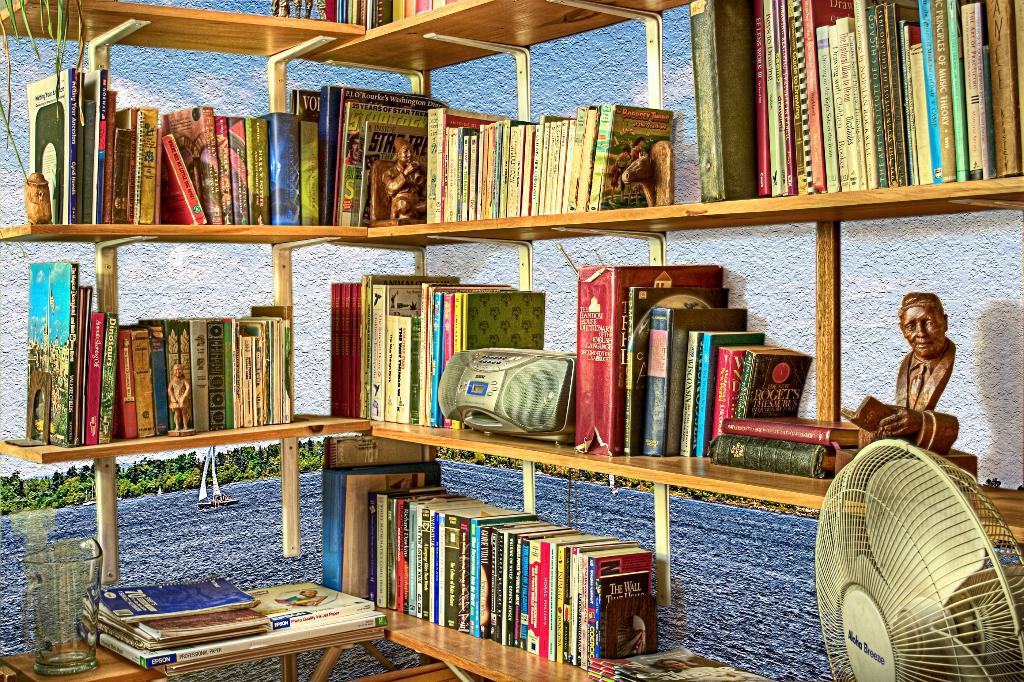Luggage-and-bags: (813, 436, 1022, 680)
